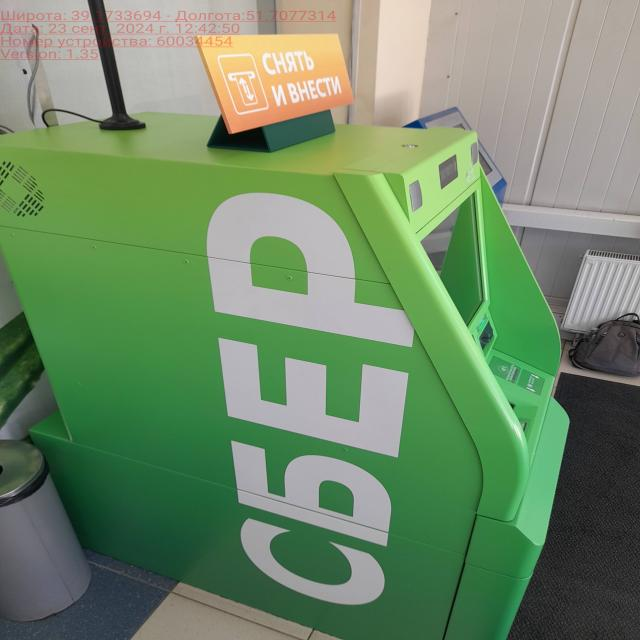bank: (0, 112, 574, 640)
